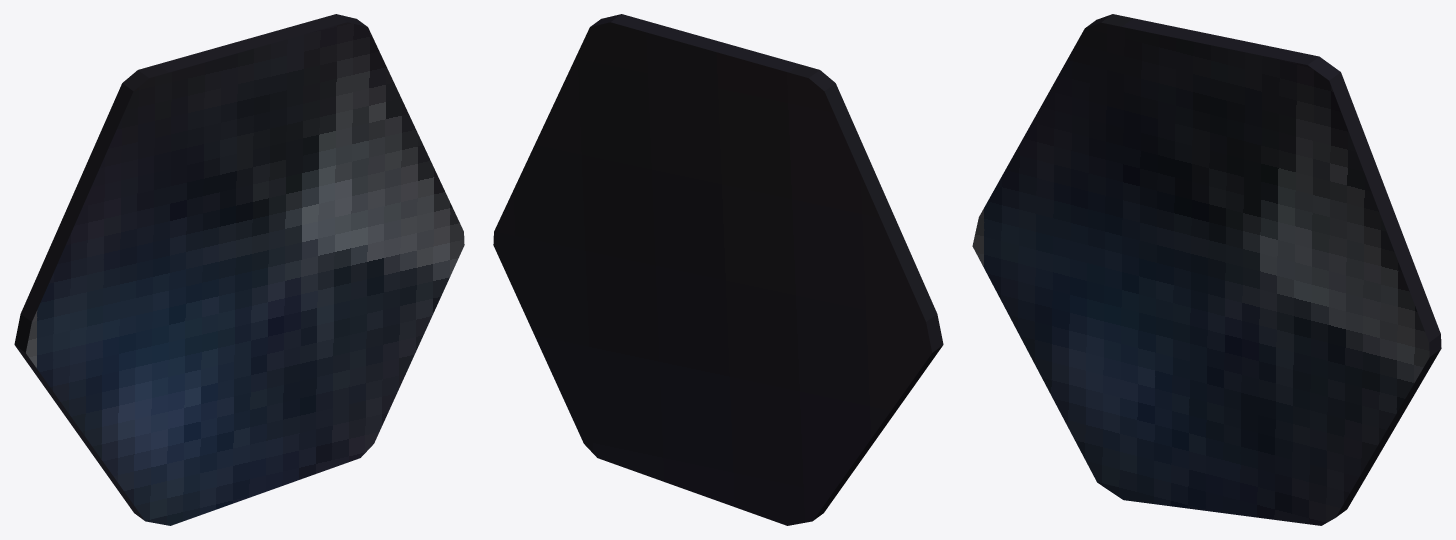
Rendered from EmptyMana.glb.
3 renders of one model, left to right at view 1: azimuth 30°, elevation 25°; view 2: azimuth 150°, elevation 25°; view 3: azimuth 330°, elevation 25°, orthographic. The views are drawn at different scales.
Parts seen in each view (by area): view 1: Circle.001; view 2: Circle.001; view 3: Circle.001.
Boxes of the visible parts, x1=… form: Circle.001: x1=14, y1=14, x2=464, y2=525; Circle.001: x1=493, y1=14, x2=943, y2=525; Circle.001: x1=972, y1=14, x2=1441, y2=525.
Size of the model in its own units: 0.8072 by 0.8095 by 0.036.
1 material, 1 textured.
